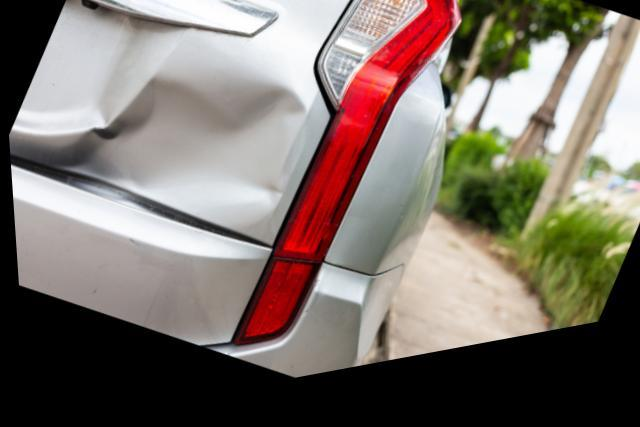dent: (58, 84, 304, 236)
